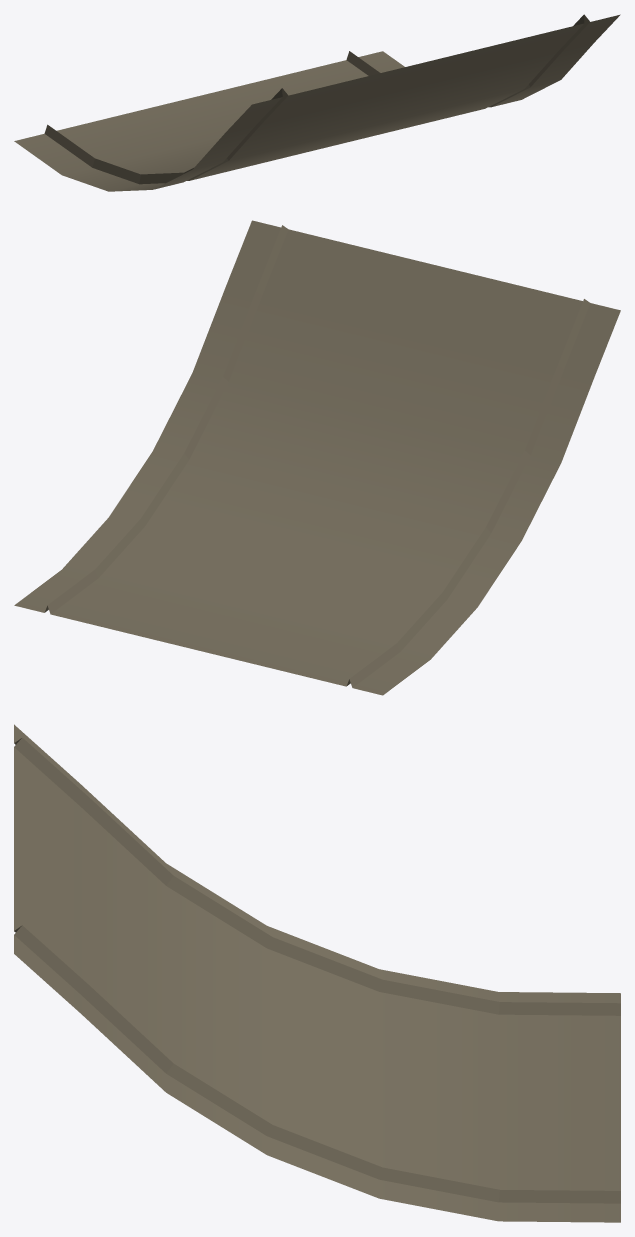
The model's file is SM_wall_int_top_02.fbx.
The picture shows the model from 3 angles, top to bottom: view 1: azimuth 30°, elevation 25°; view 2: azimuth 150°, elevation 25°; view 3: azimuth 270°, elevation 25°; orthographic projection. The views are drawn at different scales.
Parts seen in each view (by area): view 1: wall_int_top_02; view 2: wall_int_top_02; view 3: wall_int_top_02.
Part boxes in pixels (x1=…): wall_int_top_02: x1=14, y1=14, x2=620, y2=191; wall_int_top_02: x1=14, y1=220, x2=620, y2=695; wall_int_top_02: x1=14, y1=724, x2=620, y2=1222.
Size of the model in its own units: 100 by 56.4 by 112.
